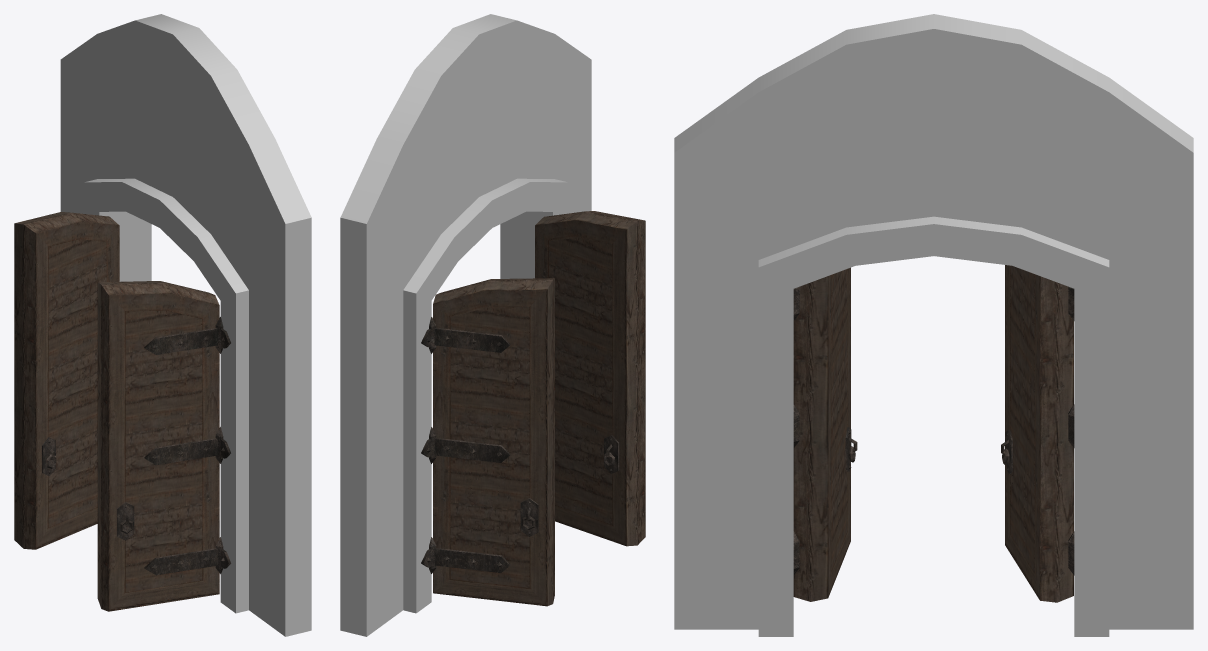
The model's file is HallwayDoorOpen.FBX.
3 renders of one model, left to right at view 1: azimuth 30°, elevation 25°; view 2: azimuth 150°, elevation 25°; view 3: azimuth 270°, elevation 25°, orthographic. The views are drawn at different scales.
Parts seen in each view (by area): view 1: HallwayDoorOpen; view 2: HallwayDoorOpen; view 3: HallwayDoorOpen.
Part boxes in pixels (x1=…): HallwayDoorOpen: x1=14, y1=14, x2=311, y2=636; HallwayDoorOpen: x1=340, y1=14, x2=645, y2=636; HallwayDoorOpen: x1=674, y1=14, x2=1193, y2=636.
Bounding box in the file's own units: 295 × 945 × 740.
